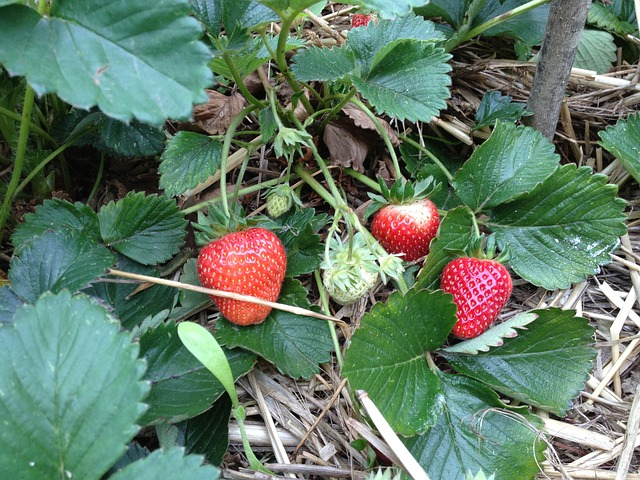ripe_strawberry: (197, 226, 289, 328), (439, 254, 515, 341), (371, 196, 440, 264), (352, 10, 380, 30)
unripe_strawberry: (324, 251, 379, 307), (266, 184, 296, 220)
